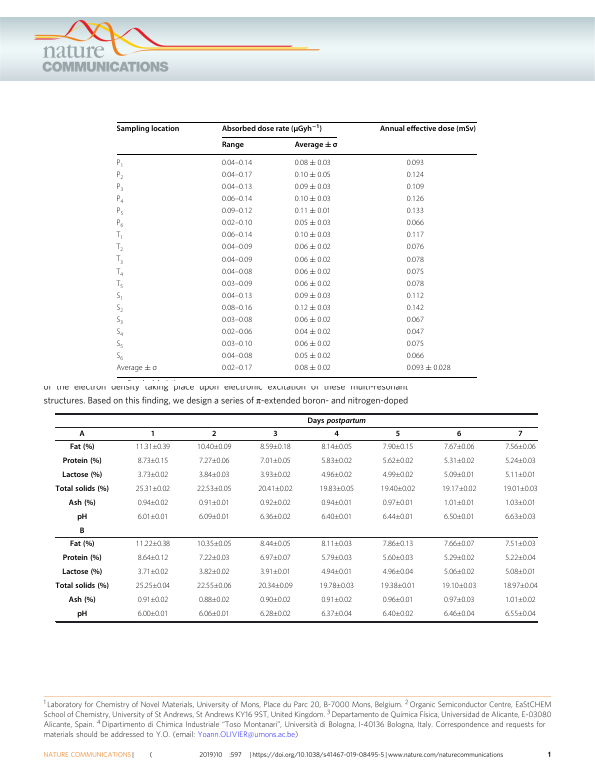borderless: (55, 412, 537, 621), (115, 120, 477, 377)
cell: (221, 123, 323, 134), (379, 124, 477, 134), (116, 124, 180, 134), (55, 484, 110, 494), (55, 581, 110, 591), (307, 416, 367, 425), (294, 140, 338, 150), (61, 470, 103, 480), (61, 567, 103, 577), (406, 364, 452, 373), (62, 456, 102, 466), (62, 553, 102, 563), (115, 364, 158, 373), (294, 158, 332, 168), (294, 170, 332, 180), (294, 279, 332, 289), (294, 291, 332, 301), (294, 183, 332, 192), (294, 195, 332, 204), (294, 207, 332, 216), (294, 219, 332, 228), (294, 231, 332, 240), (294, 243, 332, 252), (294, 255, 332, 264), (294, 267, 332, 276), (294, 304, 332, 313), (294, 316, 332, 325), (294, 328, 332, 337), (294, 340, 332, 349), (294, 352, 332, 361), (294, 364, 332, 373), (221, 158, 253, 168), (221, 170, 253, 180), (221, 279, 253, 289), (221, 291, 253, 301), (221, 183, 253, 192), (221, 195, 253, 204), (221, 207, 253, 216), (221, 219, 253, 228), (221, 231, 253, 240), (221, 243, 253, 252), (221, 255, 253, 264), (221, 267, 253, 276), (221, 304, 253, 313), (221, 316, 253, 325), (221, 328, 253, 337), (221, 340, 253, 349), (221, 352, 253, 361), (221, 364, 253, 373), (68, 498, 96, 508), (68, 595, 96, 605), (69, 442, 95, 452), (69, 539, 95, 549), (135, 443, 171, 450), (196, 443, 232, 450), (135, 485, 171, 492), (196, 485, 232, 492), (257, 485, 293, 492), (319, 485, 355, 492), (380, 485, 416, 492), (441, 485, 477, 492), (502, 485, 538, 492), (135, 540, 171, 547), (196, 540, 232, 547), (135, 582, 171, 589), (196, 582, 232, 589), (257, 582, 293, 589), (319, 582, 355, 589), (380, 582, 416, 589), (441, 582, 477, 589), (502, 582, 538, 589), (221, 140, 245, 150), (259, 443, 292, 450), (320, 443, 353, 450), (504, 443, 537, 450), (259, 457, 292, 464), (320, 457, 353, 464), (504, 457, 537, 464), (259, 471, 292, 478), (320, 471, 353, 478), (504, 471, 537, 478), (259, 499, 292, 506), (320, 499, 353, 506), (504, 499, 537, 506), (259, 513, 292, 520), (320, 513, 353, 520), (504, 513, 537, 520), (259, 540, 292, 547), (320, 540, 353, 547), (504, 540, 537, 547), (259, 554, 292, 561), (320, 554, 353, 561), (504, 554, 537, 561), (259, 568, 292, 575), (320, 568, 353, 575), (504, 568, 537, 575), (259, 596, 292, 603), (320, 596, 353, 603), (504, 596, 537, 603), (259, 610, 292, 617), (320, 610, 353, 617), (504, 610, 537, 617), (382, 443, 414, 450), (443, 443, 475, 450), (137, 457, 169, 464), (198, 457, 230, 464), (382, 457, 414, 464), (443, 457, 475, 464), (137, 471, 169, 478), (198, 471, 230, 478), (382, 471, 414, 478), (443, 471, 475, 478), (137, 499, 169, 506), (198, 499, 230, 506), (382, 499, 414, 506), (443, 499, 475, 506), (137, 513, 169, 520), (198, 513, 230, 520), (382, 513, 414, 520), (443, 513, 475, 520), (382, 540, 414, 547), (443, 540, 475, 547), (137, 554, 169, 561), (198, 554, 230, 561), (382, 554, 414, 561), (443, 554, 475, 561), (137, 568, 169, 575), (198, 568, 230, 575), (382, 568, 414, 575), (443, 568, 475, 575), (137, 596, 169, 603), (198, 596, 230, 603), (382, 596, 414, 603), (443, 596, 475, 603), (137, 610, 169, 617), (198, 610, 230, 617), (382, 610, 414, 617), (443, 610, 475, 617), (406, 158, 425, 168), (406, 170, 425, 180), (406, 279, 425, 289), (406, 291, 425, 301), (406, 183, 425, 192), (406, 195, 425, 204), (406, 207, 425, 216), (406, 219, 425, 228), (406, 231, 425, 240), (406, 243, 425, 252), (406, 255, 425, 264), (406, 267, 425, 276), (406, 304, 425, 313), (406, 316, 425, 325), (406, 328, 425, 337), (406, 340, 425, 349), (406, 352, 425, 361), (76, 512, 88, 522), (76, 609, 88, 619), (115, 231, 124, 242), (115, 243, 124, 254), (115, 255, 124, 266), (115, 267, 124, 278), (115, 279, 124, 290), (115, 291, 124, 302), (115, 340, 124, 351), (115, 352, 124, 363), (115, 304, 124, 314), (115, 316, 124, 326), (115, 328, 124, 338), (116, 158, 124, 169), (116, 170, 124, 181), (116, 219, 124, 230), (116, 183, 124, 193), (116, 195, 124, 205), (116, 207, 124, 217), (79, 429, 86, 439), (333, 429, 340, 439), (150, 429, 156, 439), (211, 429, 217, 439), (272, 429, 278, 439), (395, 429, 401, 439), (456, 429, 462, 439), (517, 429, 523, 439), (79, 526, 85, 536)
